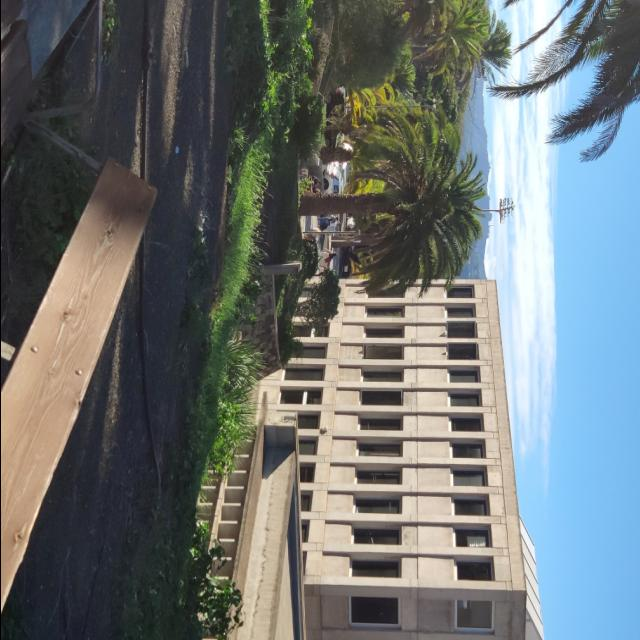Palm-Trees: (296, 110, 486, 288)
